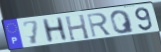7: (22, 20, 40, 46)
9: (134, 6, 154, 32)
H: (40, 16, 70, 45), (64, 13, 91, 42)
Q: (109, 9, 136, 35)
R: (86, 12, 113, 39)
